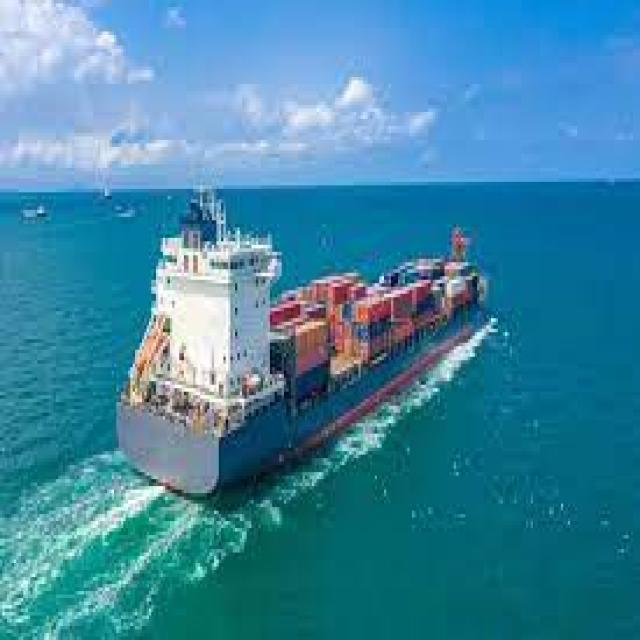cargoship: (103, 182, 493, 498)
